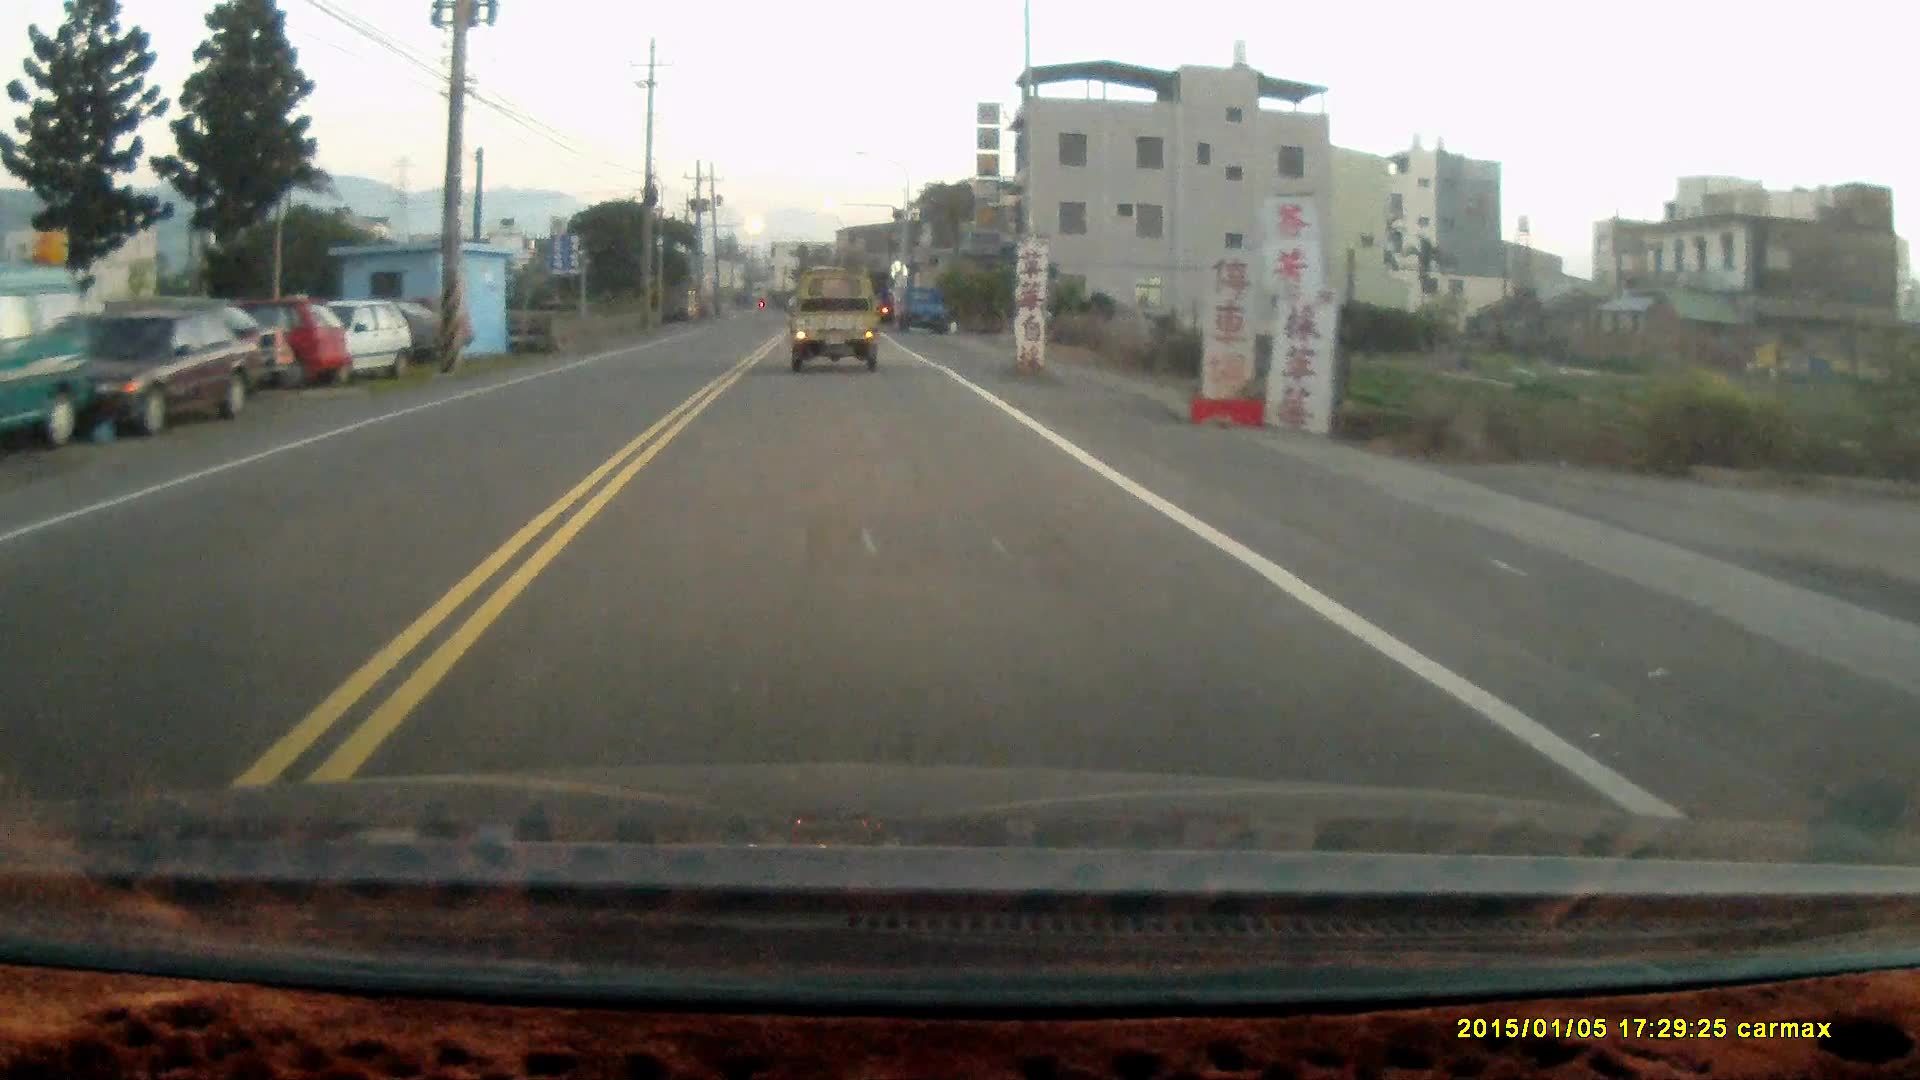vehicle: (28, 295, 274, 439), (1, 268, 96, 439), (185, 298, 352, 385), (287, 301, 414, 380), (791, 269, 884, 376), (899, 286, 955, 336)
